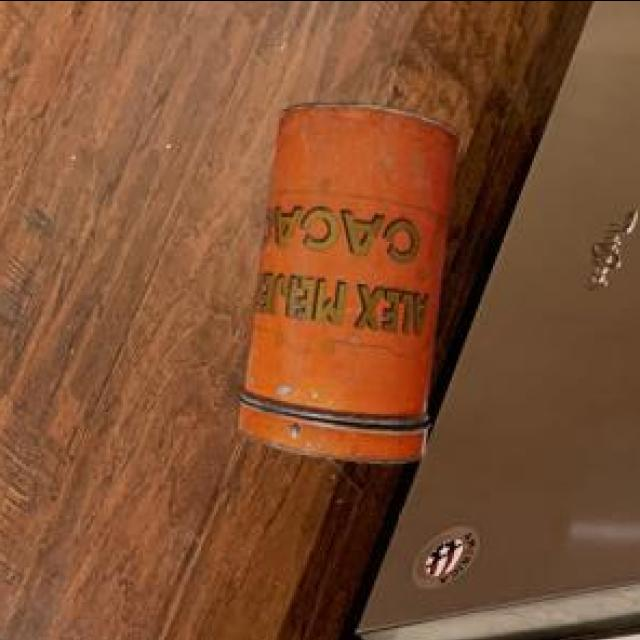logam: (241, 98, 462, 459)
